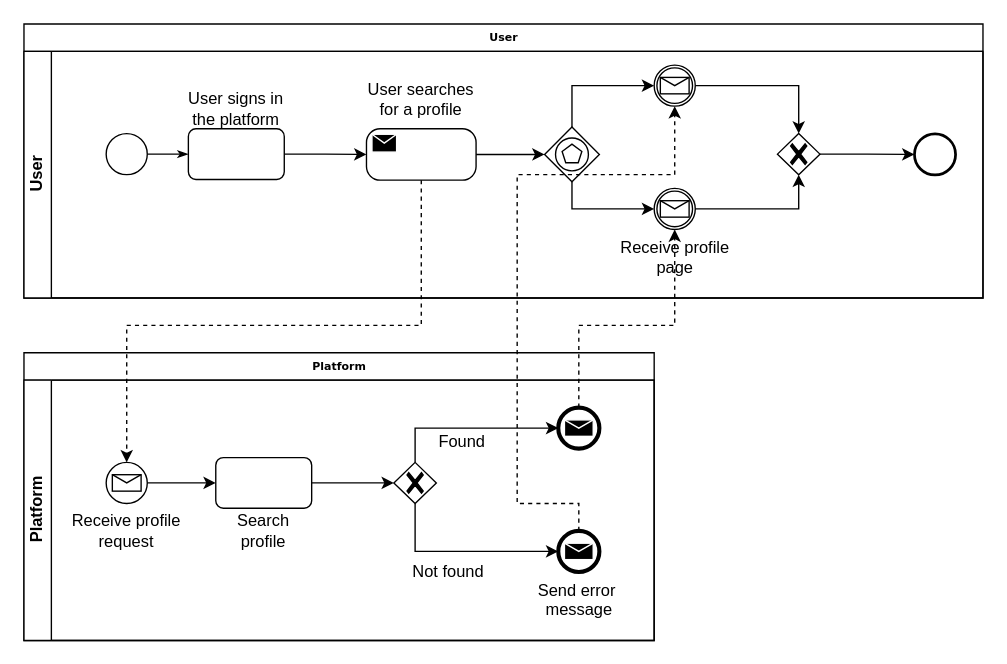
This 1007x664 diagram has some shape labels left out. The box of each missing label's shape, as (x1, y1, x2, y2) in pixels:
Profile data: (365, 127, 476, 180)
Receive error message: (653, 64, 695, 106)
Send profile page: (557, 406, 599, 449)
